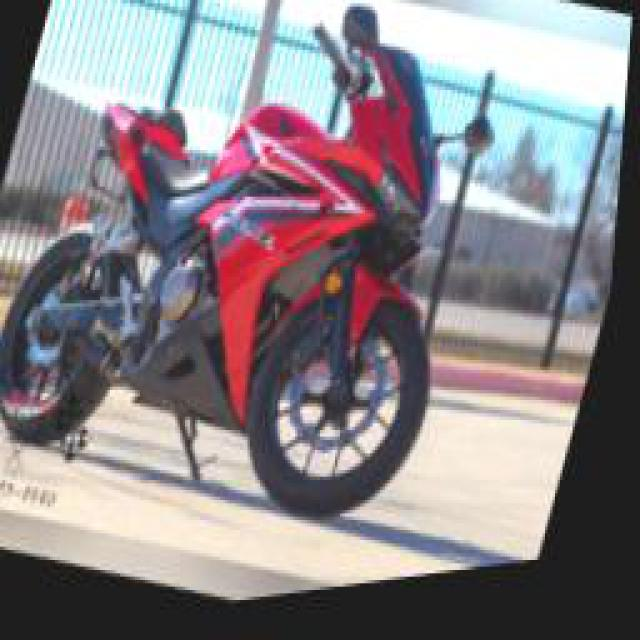CBR500R: (0, 0, 533, 597)
